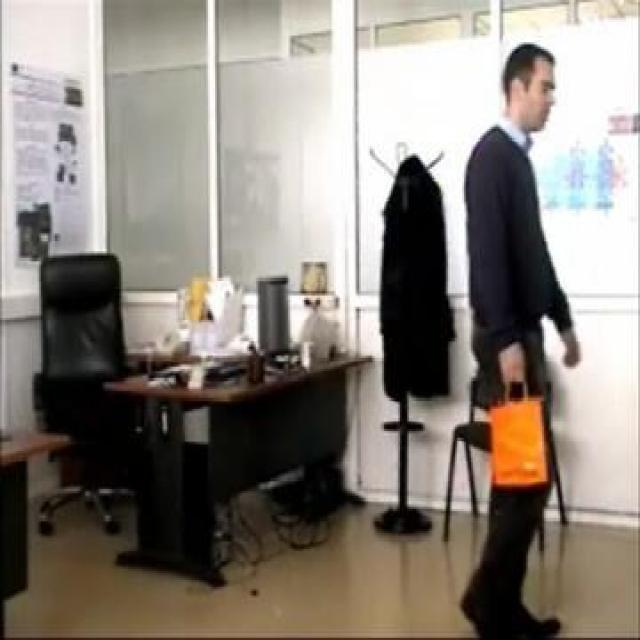other: (487, 390, 559, 494)
